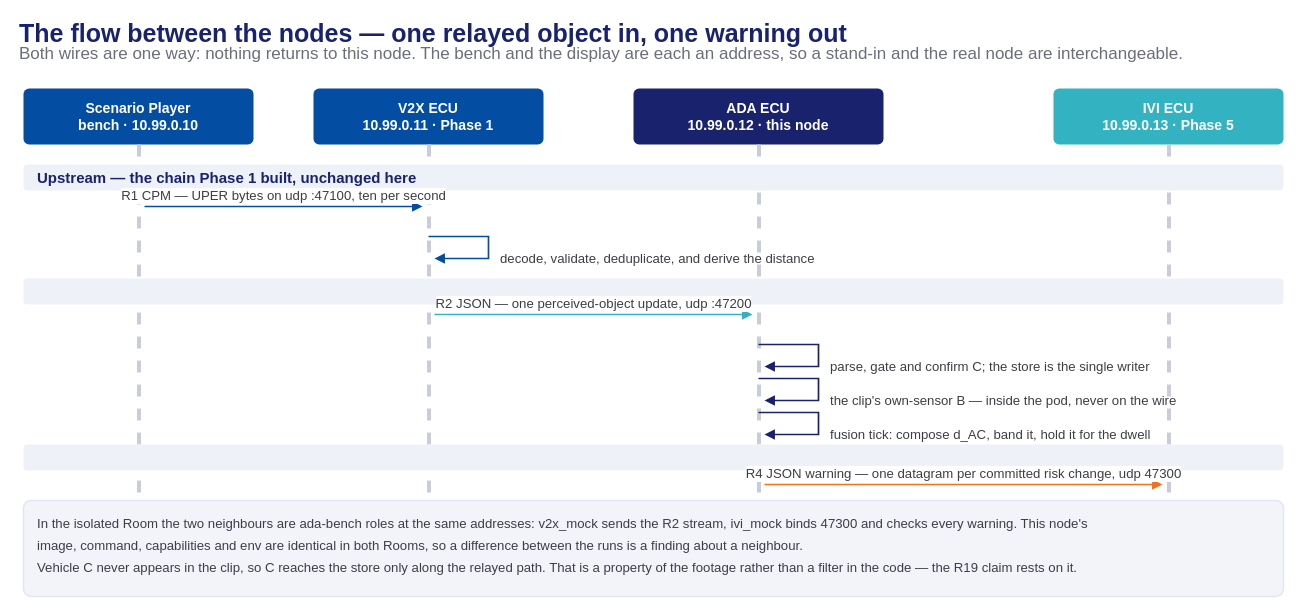
The diagram is 1306 pixels wide and 614 high, and some of its shapes have lost their labels. Here are the shapes that lost their labels. From the top down, the centre of each, then its label:
At (653,291): "Into the node — the relayed object (R2)".
At (653,457): "Out of the node — the warning (R4)".
